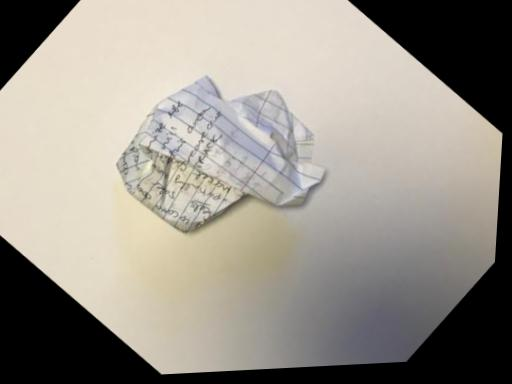paper: (117, 76, 324, 232)
